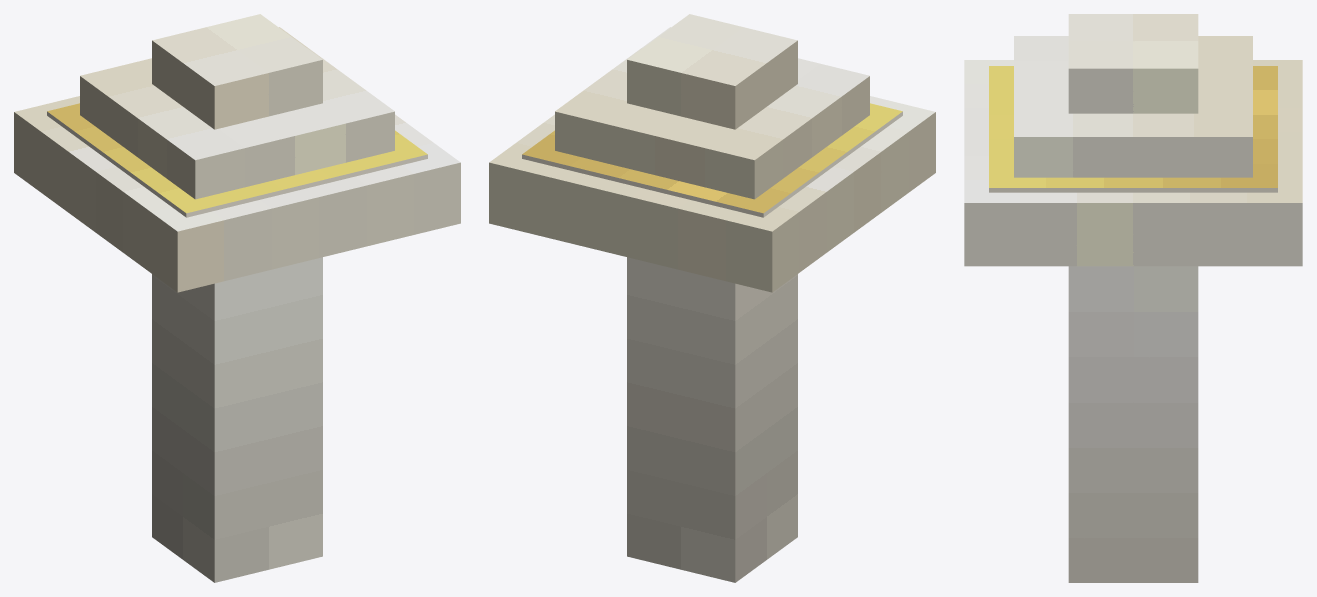
File: celtus.gltf
3 renders of one model, left to right at view 1: azimuth 30°, elevation 25°; view 2: azimuth 150°, elevation 25°; view 3: azimuth 270°, elevation 25°, orthographic. The views are drawn at different scales.
Visible parts, largest first — view 1: stem, cap_a, cap_b, cap_c, halo; view 2: stem, cap_a, cap_b, cap_c, halo; view 3: stem, cap_a, cap_b, cap_c, halo.
Boxes of the visible parts, x1,y1,x2,y2 form: stem: (152, 257, 322, 582); cap_a: (14, 96, 460, 292); cap_b: (80, 27, 394, 199); cap_c: (152, 14, 322, 129); halo: (47, 103, 427, 217); stem: (627, 257, 797, 582); cap_a: (489, 96, 935, 292); cap_b: (555, 27, 869, 199); cap_c: (627, 14, 797, 129); halo: (522, 103, 902, 217); stem: (1068, 266, 1198, 582); cap_a: (964, 60, 1302, 266); cap_b: (1014, 36, 1252, 177); cap_c: (1068, 14, 1198, 113); halo: (989, 66, 1277, 192).
Size of the model in its own units: 0.425 by 0.7125 by 0.425.
1 material, 1 textured.
